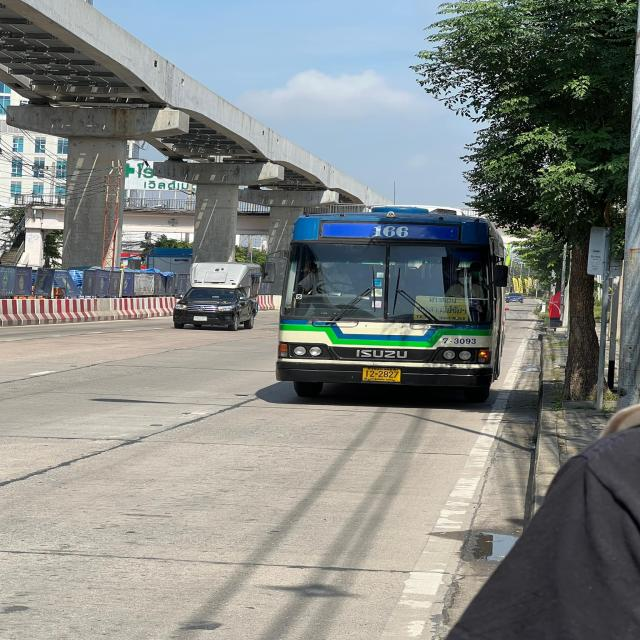BMTA-bus: (275, 202, 511, 406)
Bus-Line-Number: (371, 224, 410, 238)
Destination-Sign-Normal-Expressway: (414, 295, 471, 323)
